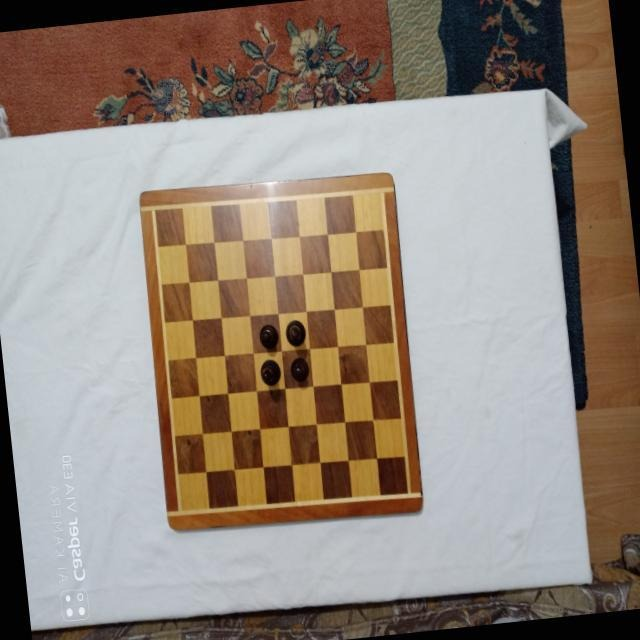black-bishop: (284, 317, 307, 347), (258, 358, 281, 386)
black-pawn: (256, 322, 279, 350), (289, 355, 311, 383)
